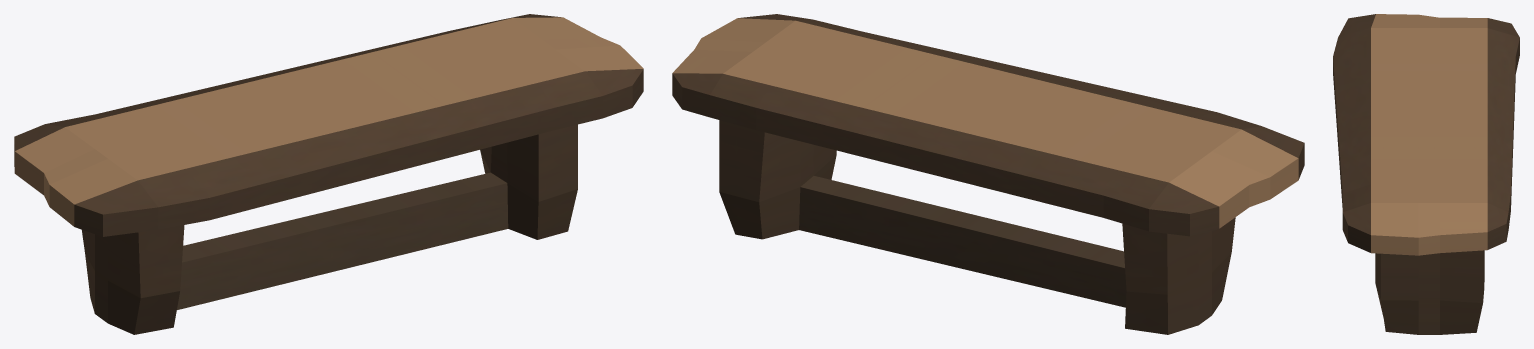
The model's file is Wood_Bench_A.obj.
3 views of the same model, side by side, from view 1: azimuth 30°, elevation 25°; view 2: azimuth 150°, elevation 25°; view 3: azimuth 270°, elevation 25° (orthographic). The views are drawn at different scales.
Visible parts, largest first — view 1: Wood_Bench_A; view 2: Wood_Bench_A; view 3: Wood_Bench_A.
Boxes of the visible parts, x1=… form: Wood_Bench_A: x1=14, y1=14, x2=643, y2=334; Wood_Bench_A: x1=672, y1=14, x2=1304, y2=334; Wood_Bench_A: x1=1333, y1=14, x2=1519, y2=334.
Size of the model in its own units: 1.5 by 0.4138 by 0.5307.
